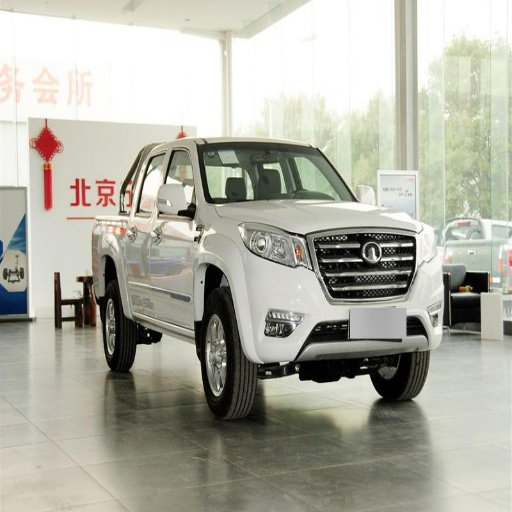front_bumper: (233, 227, 446, 369)
front_right_door: (149, 143, 196, 323)
front_right_light: (239, 224, 309, 265)
trunk: (61, 214, 120, 273)
